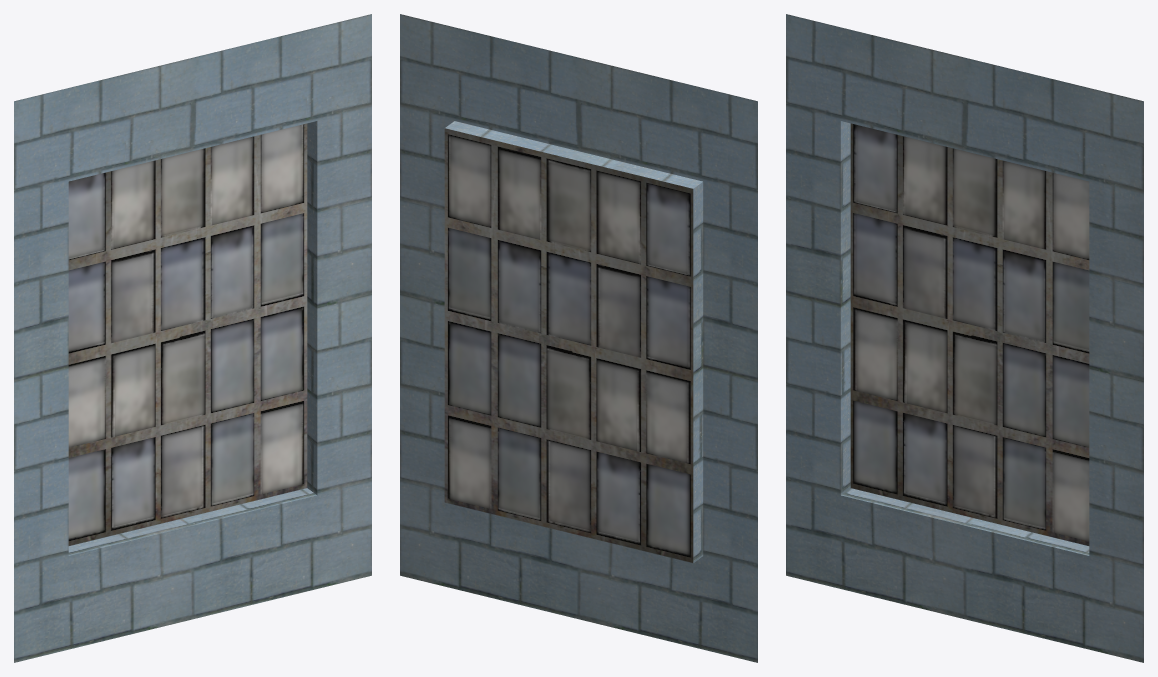
Rendered from Pared ventana grande.fbx.
3 renders of one model, left to right at view 1: azimuth 30°, elevation 25°; view 2: azimuth 150°, elevation 25°; view 3: azimuth 330°, elevation 25°, orthographic.
Parts seen in each view (by area): view 1: Plane.003; view 2: Plane.003; view 3: Plane.003.
Boxes of the visible parts, x1,y1,x2,y2 form: Plane.003: (14, 14, 371, 662); Plane.003: (400, 14, 757, 662); Plane.003: (786, 14, 1143, 662).
Bounding box in the file's own units: 4 × 6 × 0.1925.
